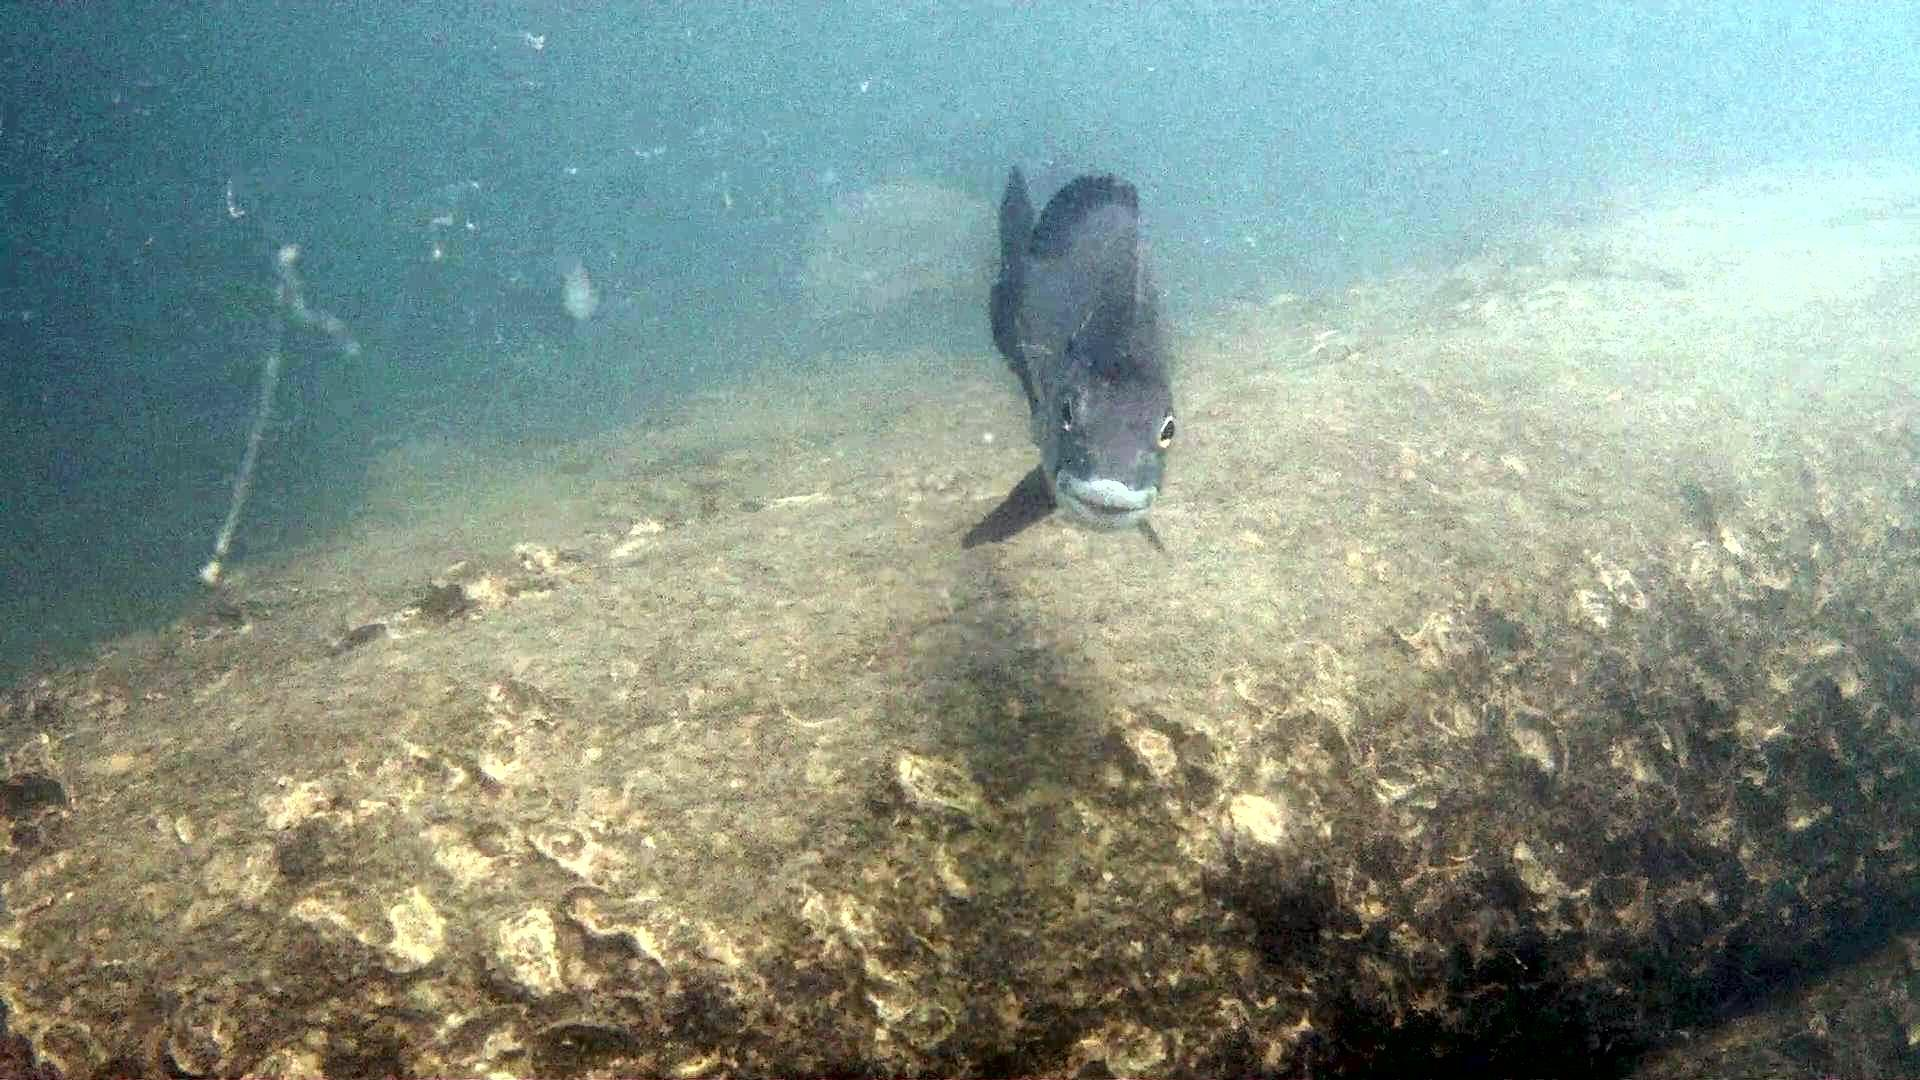acanthopagrus palmaris: (956, 157, 1192, 568)
